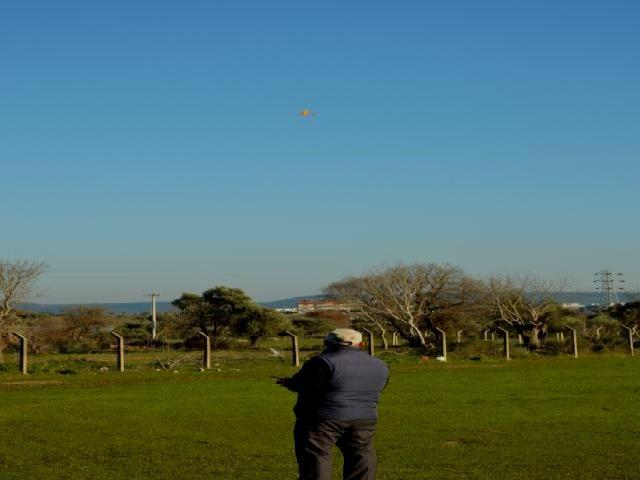iha: (300, 110, 314, 117)
